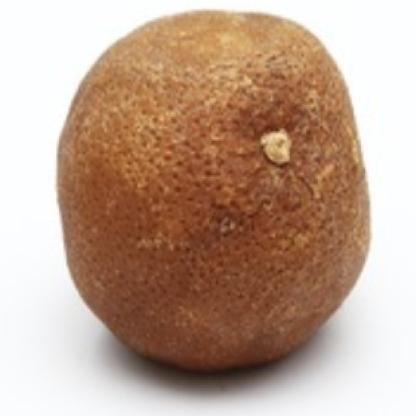rotten: (57, 10, 372, 375)
